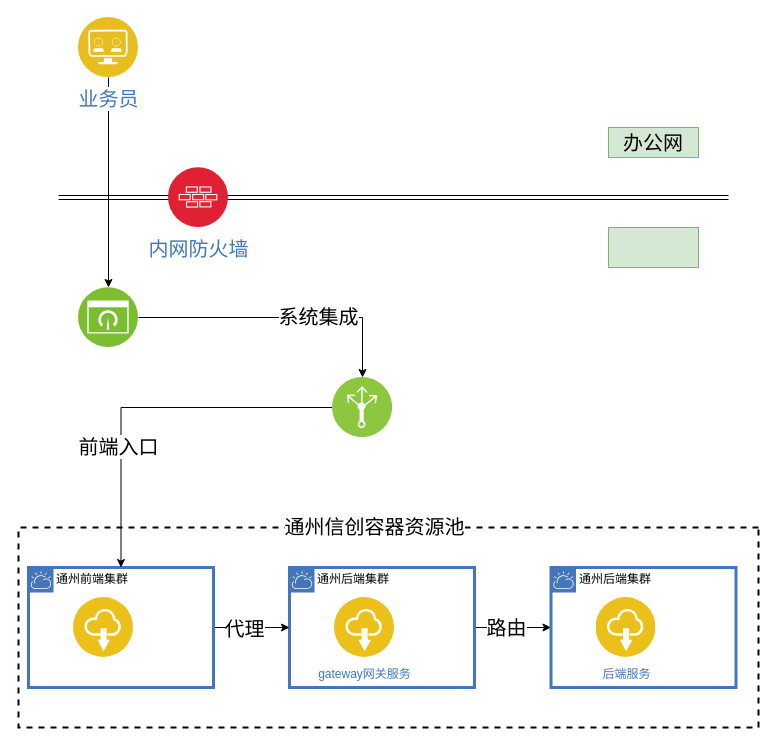
Some shapes in this 777 by 746 pixel diagram are drawn without their labels. The shapes that lost their labels are listed below. From the top down, each one's box as (x1, y1, x2, y2) in pixels, then its label:
(608, 226, 698, 268): 内网
(78, 287, 138, 347): 统一工作台
(332, 377, 392, 437): 容器负载
(73, 597, 133, 657): 前端服务
